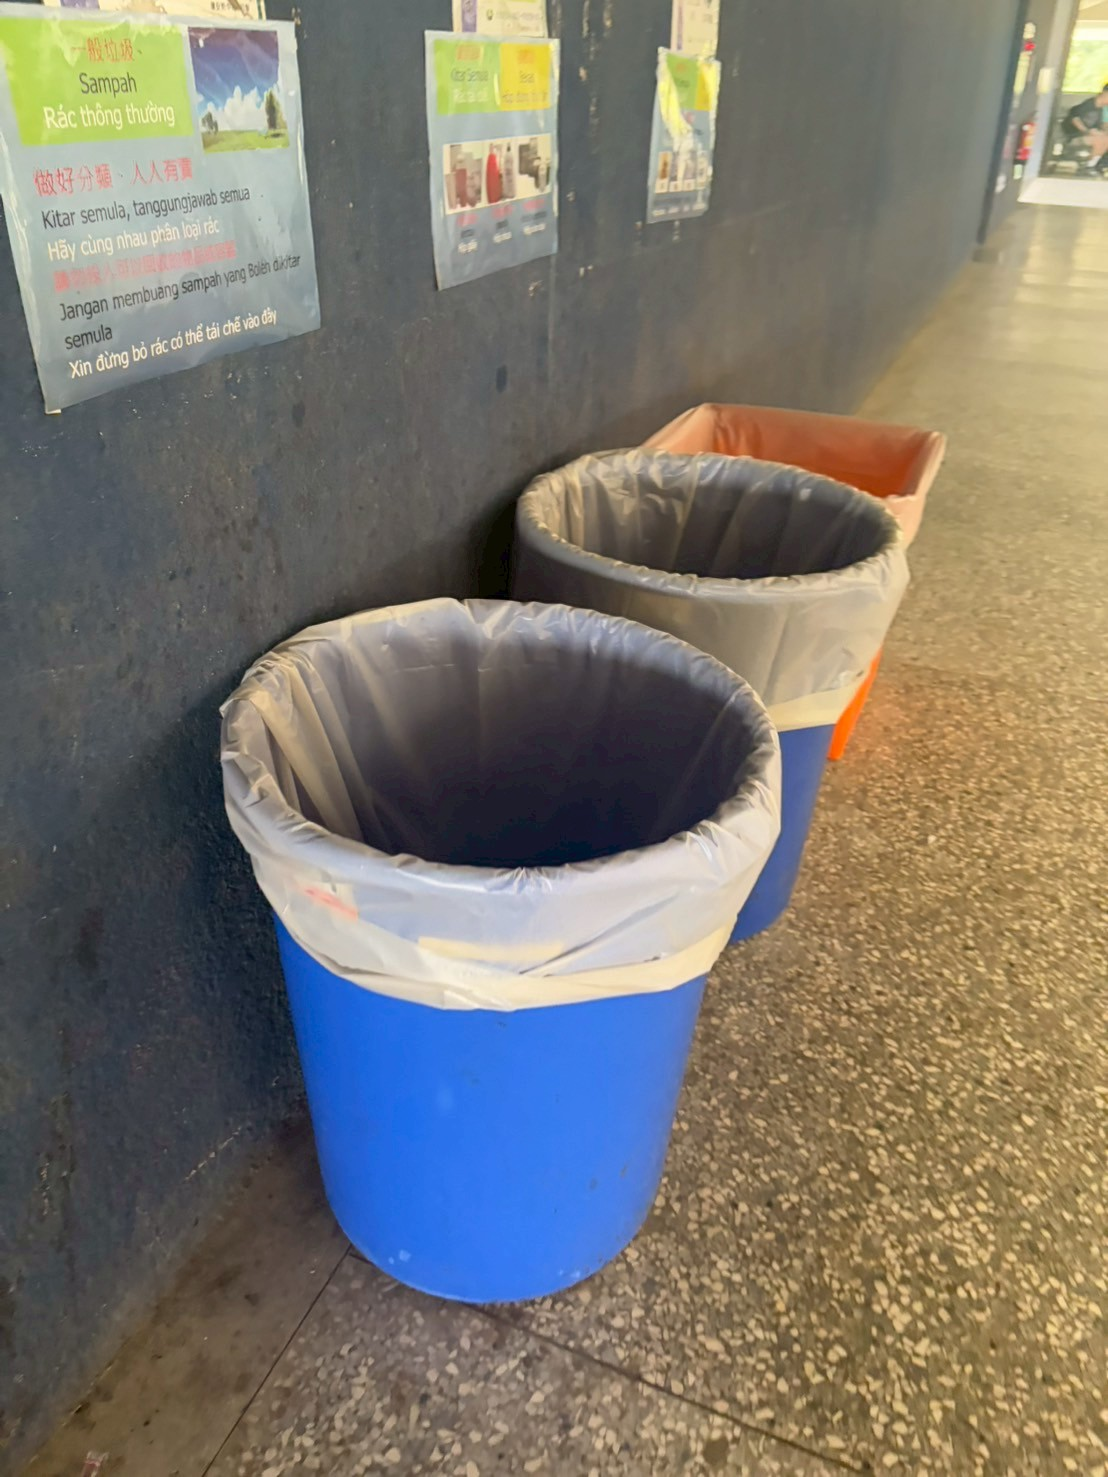normal_bin: (156, 578, 828, 1313)
